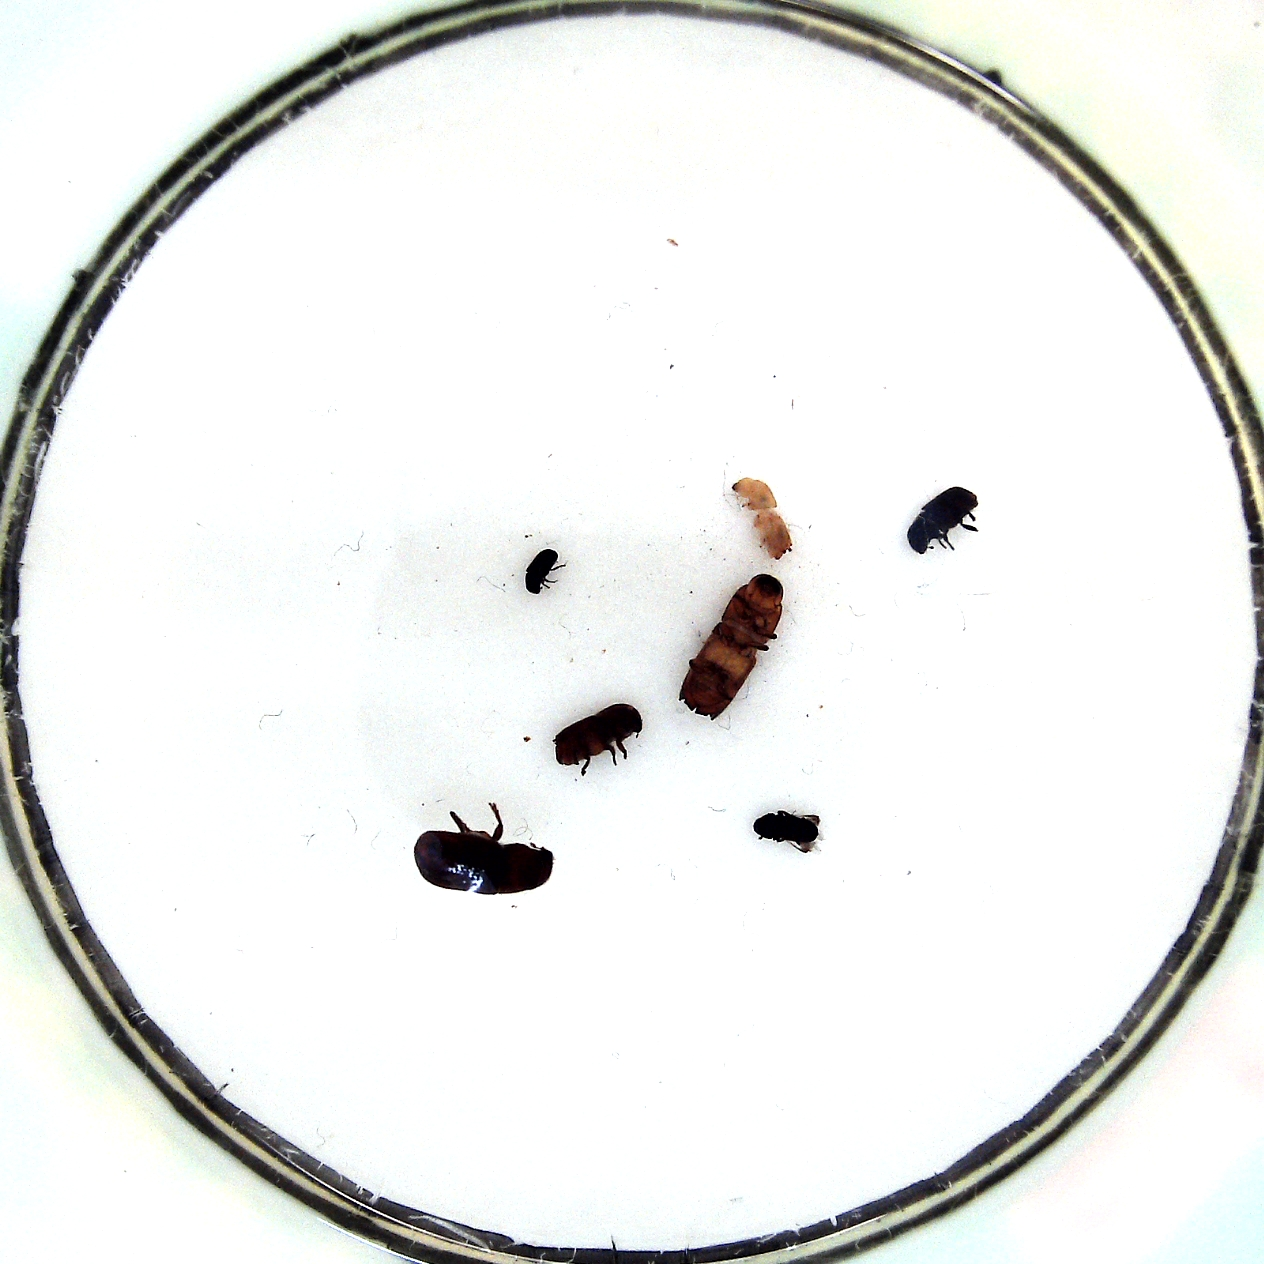Boerner: (671, 569, 786, 725)
Leconte: (404, 800, 561, 897)
Linnaeus: (546, 695, 646, 782)
acuminatus: (725, 472, 802, 566)
armandi: (901, 482, 989, 561)
coleoptera: (745, 804, 835, 857), (520, 546, 573, 597)
